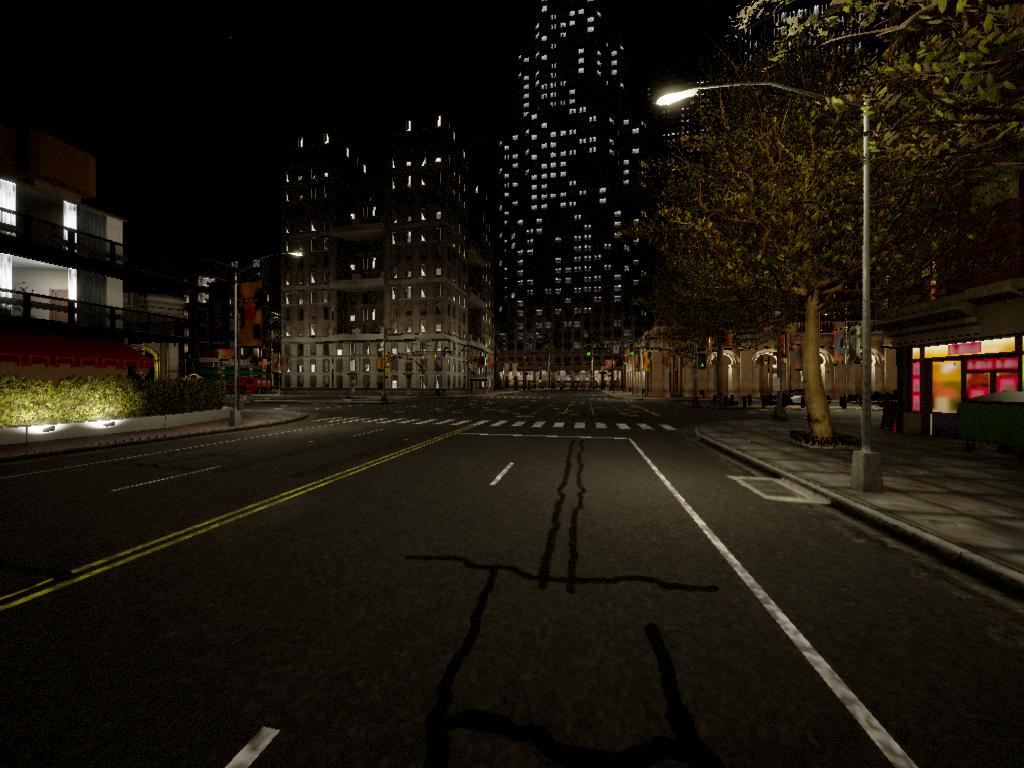traffic_light: (699, 354, 709, 371), (585, 345, 594, 359), (629, 344, 635, 358)
